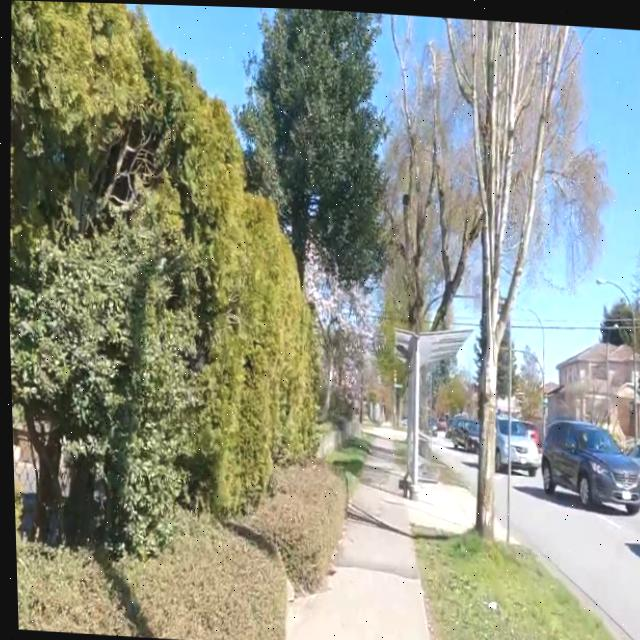Automobile: (538, 416, 640, 510), (492, 412, 536, 472), (450, 413, 475, 449), (625, 437, 640, 470), (426, 418, 434, 433)
Obstacle: (7, 0, 312, 558), (446, 15, 569, 534), (413, 527, 617, 640), (121, 519, 282, 640), (232, 457, 343, 586), (393, 327, 466, 495), (13, 538, 136, 636), (324, 434, 367, 478), (312, 427, 337, 455), (339, 415, 357, 437)
Sidewalk: (284, 429, 467, 640), (398, 479, 471, 532)
